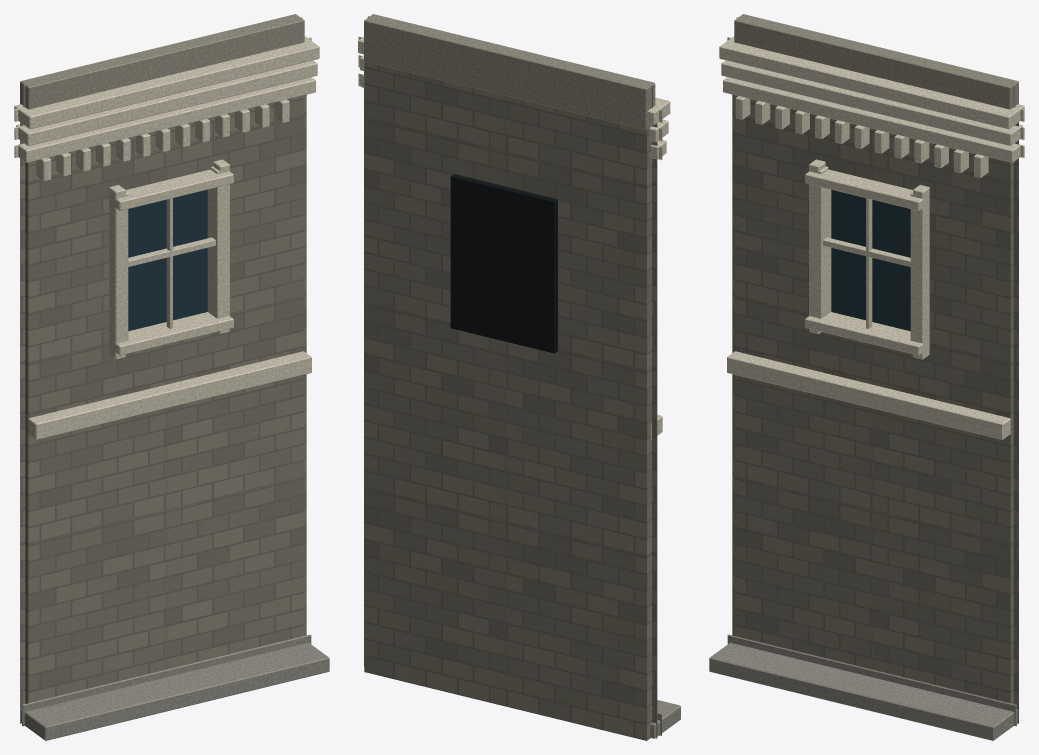
The model's file is WRHS7_lod1.glb.
The picture shows the model from 3 angles, left to right: view 1: azimuth 30°, elevation 25°; view 2: azimuth 150°, elevation 25°; view 3: azimuth 330°, elevation 25°; orthographic projection. The views are drawn at different scales.
Visible parts, largest first — view 1: WRHS7_FRONT_LOD1; view 2: WRHS7_FRONT_LOD1; view 3: WRHS7_FRONT_LOD1.
Boxes of the visible parts, x1=… form: WRHS7_FRONT_LOD1: x1=14, y1=14, x2=329, y2=740; WRHS7_FRONT_LOD1: x1=358, y1=14, x2=680, y2=740; WRHS7_FRONT_LOD1: x1=709, y1=14, x2=1024, y2=740.
Size of the model in its own units: 3.44 by 7.05 by 0.65.
Materials: 7 (5 with a texture image).
